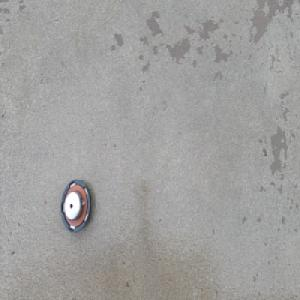FuelCap: (60, 177, 91, 236)
